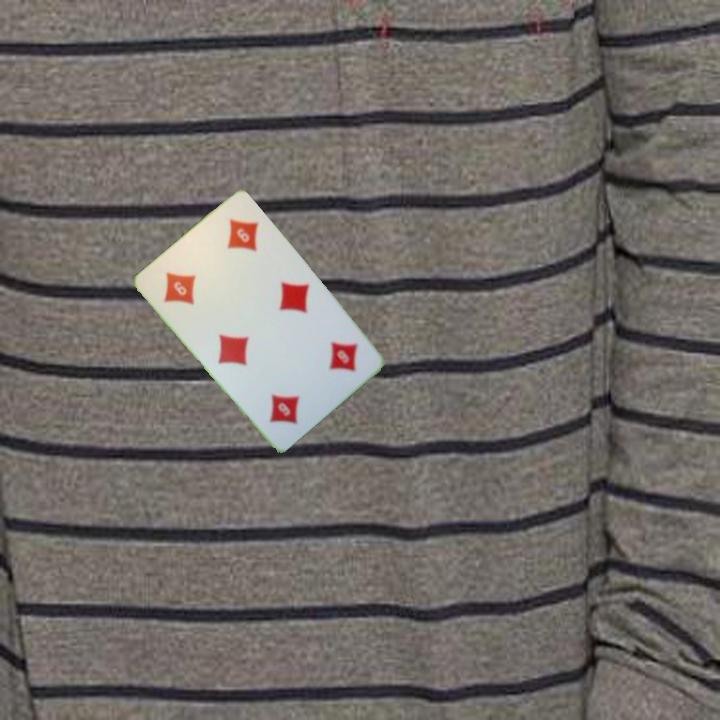d_6.png: (289, 317, 376, 402), (143, 240, 230, 325)
